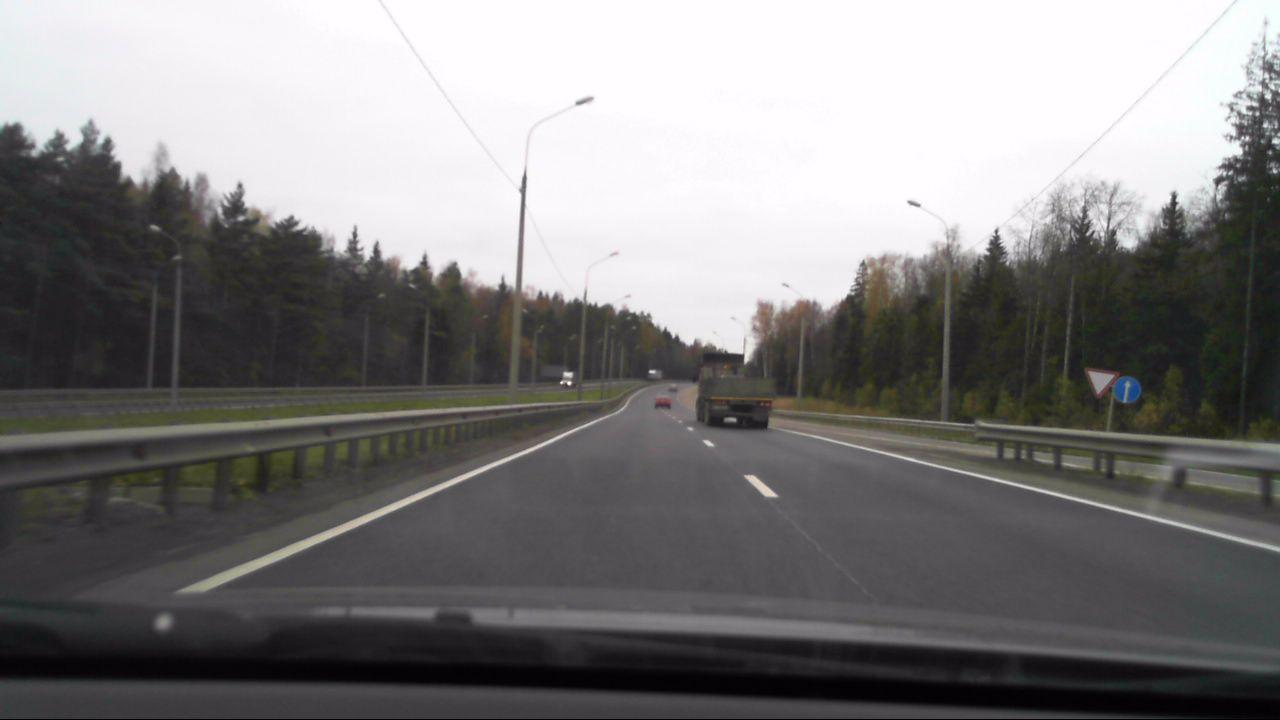2_4: (1084, 367, 1117, 398)
4_1_1: (1112, 376, 1145, 408)
